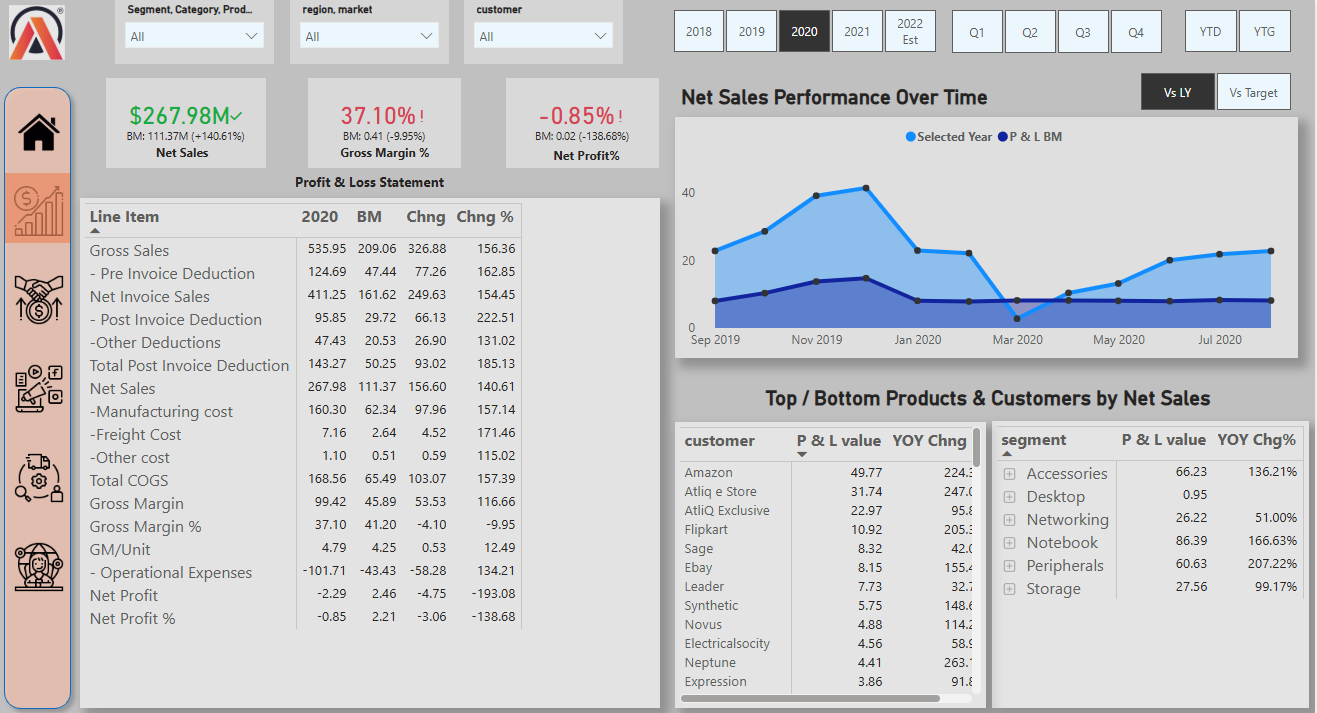

Layout of this report page (visuals, bound fields, positions):
{"tool":"powerbi","page":{"name":"Finance View","canvas":[1320,720],"ordinal":2},"visuals":[{"type":"kpi","fields":{"Indicator":["Key Measures.NS $"],"TrendLine":["dim_date.Fiscal Year"],"Goal":["Key Measures.NS BM $"]},"box":[111.5,80,160,90],"z":0,"group":"g5"},{"type":"kpi","fields":{"TrendLine":["dim_date.Fiscal Year"],"Indicator":["Key Measures.GM %"],"Goal":["Key Measures.GM % BM"]},"box":[312.7,80,152.5,90],"z":0,"group":"g2"},{"type":"pivotTable","fields":{"Rows":["P & L Rows.Line Item"],"Values":["Key Measures.P & L Final Value"],"Columns":["P & L Columns.Col Header"]},"box":[85.2,200,580,510],"z":0},{"type":"slicer","fields":{"Values":["fiscal_year.fy_desc"]},"box":[652.5,5,312.5,56.2],"z":1000},{"type":"kpi","fields":{"TrendLine":["dim_date.Fiscal Year"],"Indicator":["Key Measures.Net Profit %"],"Goal":["Key Measures.NP % BM"]},"box":[510.6,80,152.5,90],"z":1000,"group":"g4"},{"type":"textbox","box":[134,140,107.5,30],"z":1000,"group":"g5"},{"type":"slicer","fields":{"Values":["dim_date.quarters"]},"box":[930.6,4.8,260.6,56.7],"z":2000},{"type":"slicer","fields":{"Values":["dim_date.YTD_or_YTG"]},"box":[1163.8,5,156.2,56.2],"z":3000},{"type":"areaChart","fields":{"Category":["dim_date.Date"],"Y":["Key Measures.P & L value","Key Measures.P & L BM"]},"box":[680,118.8,622.5,241.2],"z":4000},{"type":"pivotTable","fields":{"Rows":["dim_market.region","dim_market.market","dim_customer.customer"],"Values":["Key Measures.P & L value","Key Measures.Chng %"]},"box":[680,424.3,311.4,285.7],"z":5000},{"type":"pivotTable","fields":{"Rows":["dim_product.segment","dim_product.product"],"Values":["Key Measures.P & L value","Key Measures.YOY Change %"]},"box":[997.1,422.9,317,287.1],"z":6000},{"type":"card","fields":{"Values":["Key Measures.Selected P & L rows"]},"box":[672.5,80,333.8,37.5],"z":7000},{"type":"card","fields":{"Values":["Key Measures.Top/Bottom N Title"]},"box":[681.5,373.8,622.5,51.9],"z":8000},{"type":"textbox","box":[85.1,170.1,580.3,30.2],"z":9000},{"type":"slicer","fields":{"Values":["dim_product.segment","dim_product.category","dim_product.product"]},"box":[120.3,0,158.8,66.2],"z":10000},{"type":"slicer","fields":{"Values":["dim_market.region","dim_market.market"]},"box":[295.3,0,158.8,66.2],"z":11000},{"type":"slicer","fields":{"Values":["dim_customer.customer"]},"box":[469,0,158.8,66.2],"z":12000},{"type":"group","id":"g1","title":"Group 1","box":[111.5,80,160,90],"z":13000},{"type":"image","box":[8.8,1.2,66.2,66.2],"z":14000},{"type":"shape","box":[0,80,85,640],"z":15000},{"type":"group","id":"g2","title":"Group 1","box":[312.7,80,152.5,90],"z":15000,"group":"g3"},{"type":"textbox","box":[314.2,140,152.5,30],"z":16000,"group":"g3"},{"type":"image","box":[13.8,182.5,60,60],"z":16000},{"type":"textbox","box":[511.2,142.5,160,30],"z":17000,"group":"g4"},{"type":"image","box":[13.8,271.6,60,60],"z":17000},{"type":"image","box":[13.8,360.6,60,60],"z":18000},{"type":"image","box":[13.8,449.7,60,60],"z":19000},{"type":"image","box":[13.8,538.8,60,60],"z":20000},{"type":"image","box":[17.5,103.8,52.5,60],"z":21000},{"type":"shape","box":[10,175,65,70],"z":22000},{"type":"group","id":"g3","title":"Group 3","box":[312.7,80,154,90],"z":23000},{"type":"group","id":"g4","title":"Group 4","box":[510.6,80,160.6,92.5],"z":24000},{"type":"slicer","fields":{"Values":["Benchmark.BenchmarkName"]},"box":[1120,67.5,200,51.2],"z":25000},{"type":"group","id":"g5","title":"Group 2","box":[111.5,80,160,90],"z":26001,"group":"g1"}]}

Visuals, with their boxes on the page's 1320x720 design canvas (x1, y1, x2, y2). These are canvas units, not pixel positions in the 1317x713 screenshot, which may show the page scaled, cropped or inside an application window:
kpi - Key Measures.NS $ x dim_date.Fiscal Year: l=112, t=80, r=272, b=170
kpi - dim_date.Fiscal Year x Key Measures.GM %: l=313, t=80, r=465, b=170
pivotTable - P & L Rows.Line Item x Key Measures.P & L Final Value: l=85, t=200, r=665, b=710
slicer - fiscal_year.fy_desc: l=652, t=5, r=965, b=61
kpi - dim_date.Fiscal Year x Key Measures.Net Profit %: l=511, t=80, r=663, b=170
textbox: l=134, t=140, r=242, b=170
slicer - dim_date.quarters: l=931, t=5, r=1191, b=62
slicer - dim_date.YTD_or_YTG: l=1164, t=5, r=1320, b=61
areaChart - dim_date.Date x Key Measures.P & L value: l=680, t=119, r=1302, b=360
pivotTable - dim_market.region x dim_market.market: l=680, t=424, r=991, b=710
pivotTable - dim_product.segment x dim_product.product: l=997, t=423, r=1314, b=710
card - Key Measures.Selected P & L rows: l=672, t=80, r=1006, b=118
card - Key Measures.Top/Bottom N Title: l=682, t=374, r=1304, b=426
textbox: l=85, t=170, r=665, b=200
slicer - dim_product.segment x dim_product.category: l=120, t=0, r=279, b=66
slicer - dim_market.region x dim_market.market: l=295, t=0, r=454, b=66
slicer - dim_customer.customer: l=469, t=0, r=628, b=66
"Group 1" group: l=112, t=80, r=272, b=170
image: l=9, t=1, r=75, b=67
shape: l=0, t=80, r=85, b=720
"Group 1" group: l=313, t=80, r=465, b=170
textbox: l=314, t=140, r=467, b=170
image: l=14, t=182, r=74, b=242
textbox: l=511, t=142, r=671, b=172
image: l=14, t=272, r=74, b=332
image: l=14, t=361, r=74, b=421
image: l=14, t=450, r=74, b=510
image: l=14, t=539, r=74, b=599
image: l=18, t=104, r=70, b=164
shape: l=10, t=175, r=75, b=245
"Group 3" group: l=313, t=80, r=467, b=170
"Group 4" group: l=511, t=80, r=671, b=172
slicer - Benchmark.BenchmarkName: l=1120, t=68, r=1320, b=119
"Group 2" group: l=112, t=80, r=272, b=170
